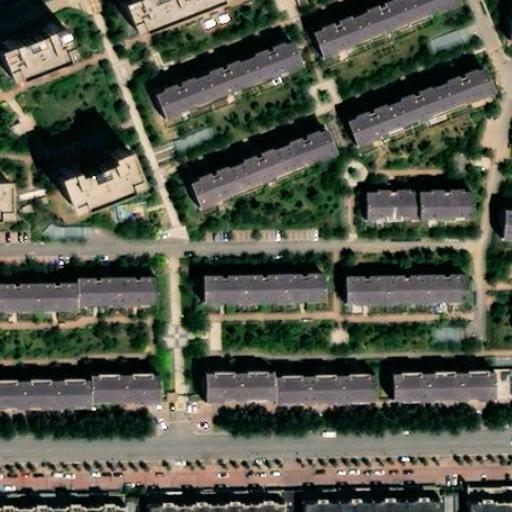building: (157, 51, 309, 135), (192, 141, 343, 224), (353, 77, 500, 158), (47, 139, 135, 204), (115, 0, 224, 46), (0, 24, 76, 82), (350, 277, 476, 310), (213, 280, 335, 310), (276, 378, 378, 410), (385, 376, 488, 403), (205, 376, 277, 410), (75, 280, 155, 310), (90, 386, 157, 418), (140, 498, 281, 512), (415, 195, 470, 229), (0, 497, 121, 512), (363, 191, 415, 225), (167, 123, 215, 155), (460, 489, 512, 511), (40, 219, 89, 238), (309, 506, 445, 512), (498, 206, 512, 239), (0, 177, 12, 215)
